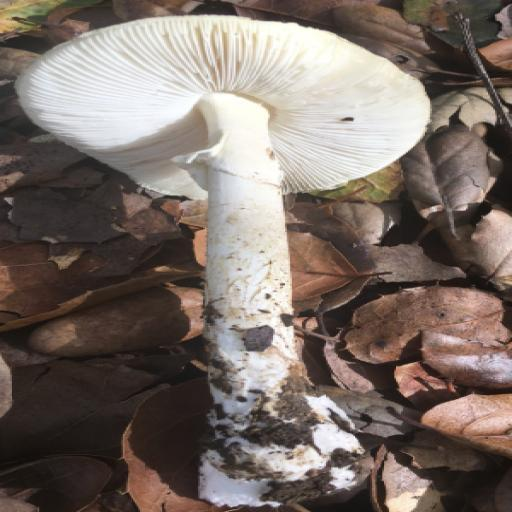mushroom: (169, 85, 362, 511), (16, 17, 430, 198), (166, 87, 282, 197)
